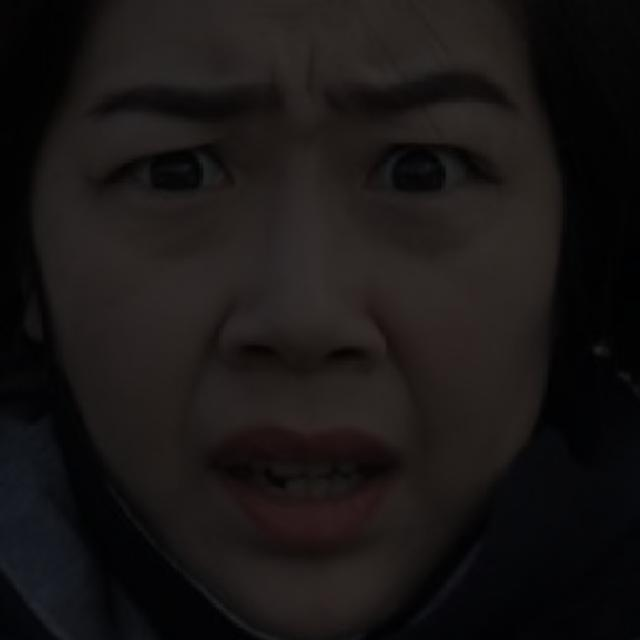Surprised: (45, 50, 581, 571)
